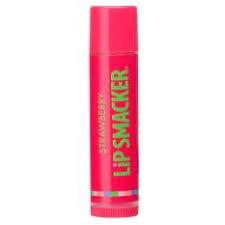Plastik: (89, 5, 142, 217)
